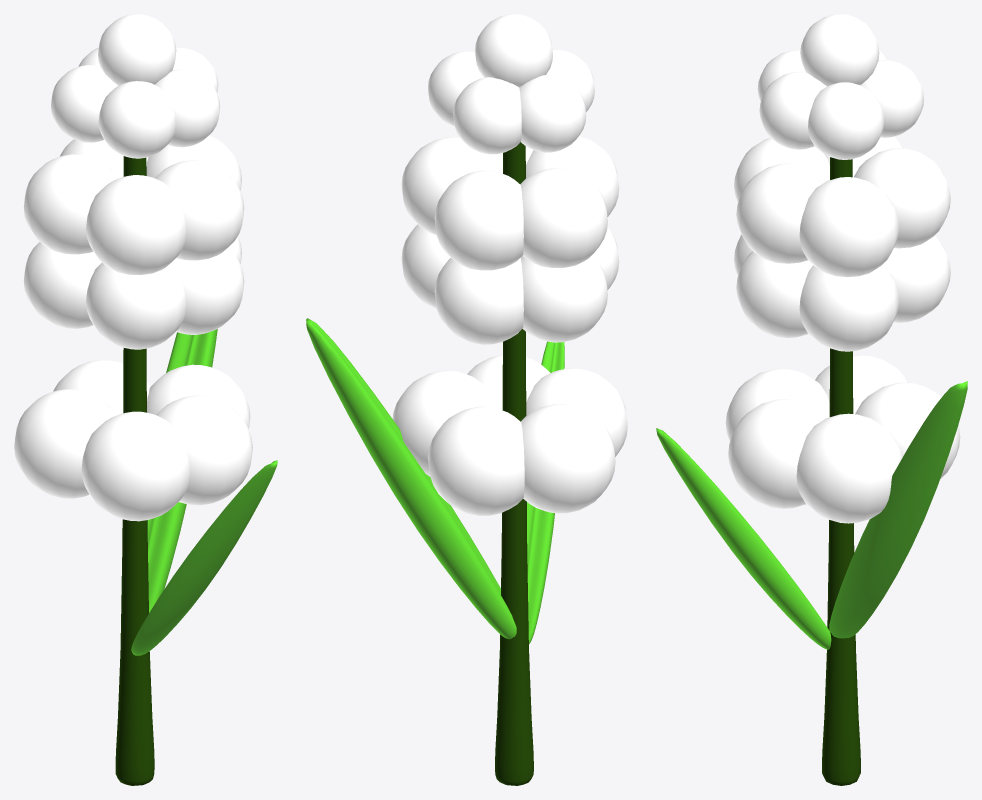
Rendered from lavender.glb.
3 renders of one model, left to right at view 1: azimuth 30°, elevation 25°; view 2: azimuth 150°, elevation 25°; view 3: azimuth 270°, elevation 25°, orthographic.
Visible parts, largest first — view 1: Cube.009, Sphere.028, Sphere.017, Sphere.029, Sphere.027, Sphere.012, Cube.011, Sphere.018, Sphere.016, Sphere.022, Sphere.013, Sphere.024 (+9 smaller); view 2: Cube.010, Cube.009, Sphere.025, Sphere.029, Sphere.014, Sphere.018, Sphere.009, Sphere.013, Sphere.026, Sphere.015, Sphere.019, Sphere.024 (+9 smaller); view 3: Cube.010, Sphere.026, Cube.009, Sphere.015, Sphere.027, Cube.011, Sphere.010, Sphere.016, Sphere.014, Sphere.020, Sphere.011, Sphere.024 (+9 smaller).
Boxes of the visible parts, x1=… form: Cube.009: x1=115, y1=156, x2=154, y2=785; Sphere.028: x1=81, y1=411, x2=189, y2=521; Sphere.017: x1=86, y1=175, x2=185, y2=274; Sphere.029: x1=14, y1=389, x2=115, y2=498; Sphere.027: x1=156, y1=395, x2=252, y2=505; Sphere.012: x1=86, y1=262, x2=185, y2=349; Cube.011: x1=131, y1=460, x2=277, y2=655; Sphere.018: x1=23, y1=154, x2=117, y2=254; Sphere.016: x1=155, y1=160, x2=244, y2=260; Sphere.022: x1=98, y1=81, x2=175, y2=158; Sphere.013: x1=23, y1=242, x2=101, y2=328; Sphere.024: x1=98, y1=14, x2=176, y2=85; Cube.010: x1=306, y1=318, x2=516, y2=639; Cube.009: x1=495, y1=142, x2=533, y2=785; Sphere.025: x1=428, y1=406, x2=524, y2=515; Sphere.029: x1=520, y1=404, x2=615, y2=513; Sphere.014: x1=434, y1=170, x2=523, y2=270; Sphere.018: x1=520, y1=168, x2=607, y2=267; Sphere.009: x1=434, y1=258, x2=523, y2=344; Sphere.013: x1=520, y1=255, x2=607, y2=342; Sphere.026: x1=392, y1=370, x2=495, y2=476; Sphere.015: x1=401, y1=137, x2=497, y2=235; Sphere.019: x1=453, y1=77, x2=521, y2=154; Sphere.024: x1=475, y1=14, x2=552, y2=87; Cube.010: x1=829, y1=381, x2=967, y2=638; Sphere.026: x1=796, y1=413, x2=902, y2=523; Cube.009: x1=822, y1=157, x2=860, y2=785; Sphere.015: x1=799, y1=177, x2=898, y2=277; Sphere.027: x1=728, y1=399, x2=825, y2=508; Cube.011: x1=656, y1=428, x2=831, y2=649; Sphere.010: x1=799, y1=264, x2=898, y2=351; Sphere.016: x1=736, y1=163, x2=826, y2=263; Sphere.014: x1=854, y1=148, x2=950, y2=248; Sphere.020: x1=808, y1=82, x2=884, y2=159; Sphere.011: x1=736, y1=251, x2=812, y2=338; Sphere.024: x1=800, y1=14, x2=879, y2=86.
Bounding box in the file's own units: 4.99 × 14.41 × 5.32.
